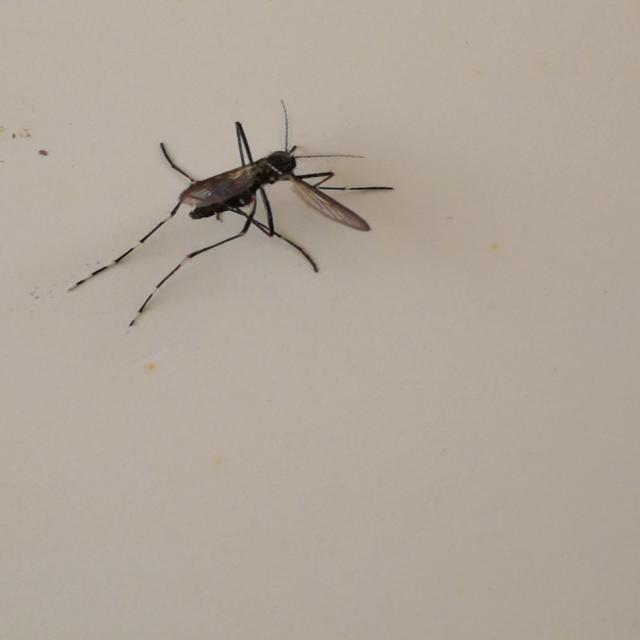albopictus: (65, 98, 393, 331)
